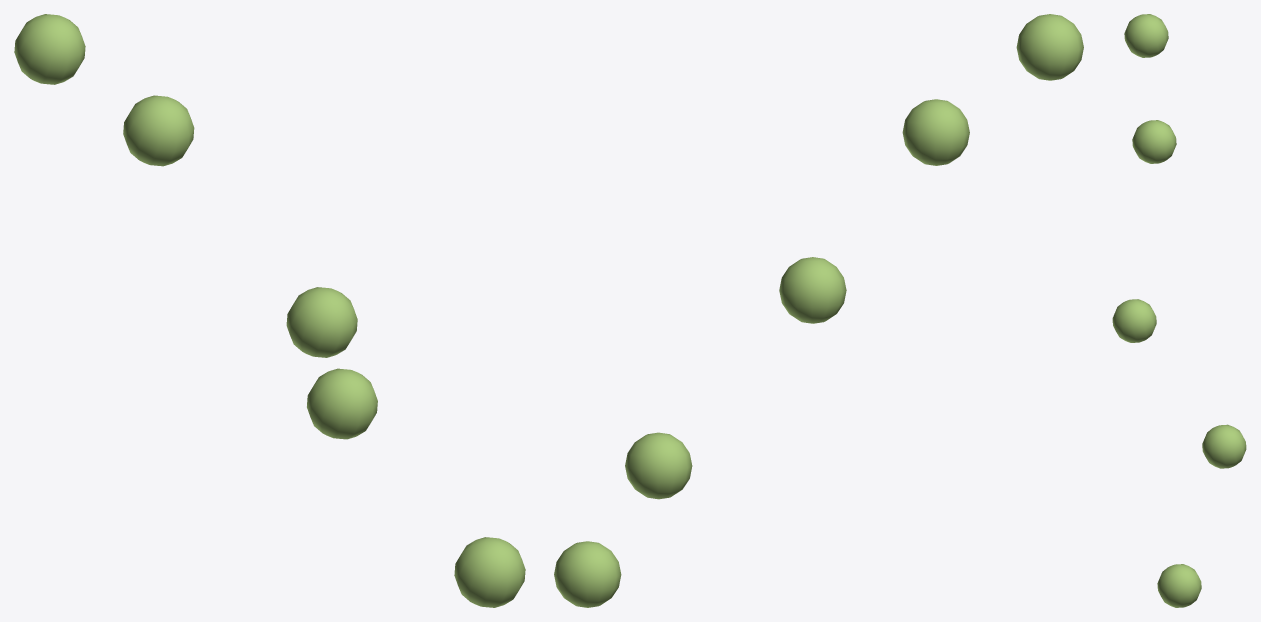
The model's file is brachial-nodes-l.glb.
The picture shows the model from 3 angles, left to right: view 1: azimuth 30°, elevation 25°; view 2: azimuth 150°, elevation 25°; view 3: azimuth 270°, elevation 25°; orthographic projection. The views are drawn at different scales.
Parts seen in each view (by area): view 1: Brachial nodes.l; view 2: Brachial nodes.l; view 3: Brachial nodes.l.
Part boxes in pixels (<box>): Brachial nodes.l: <box>14,14,525,607</box>; Brachial nodes.l: <box>554,14,1083,607</box>; Brachial nodes.l: <box>1112,14,1246,607</box>.
Bounding box in the file's own units: 0.0221 × 0.0288 × 0.00779.
